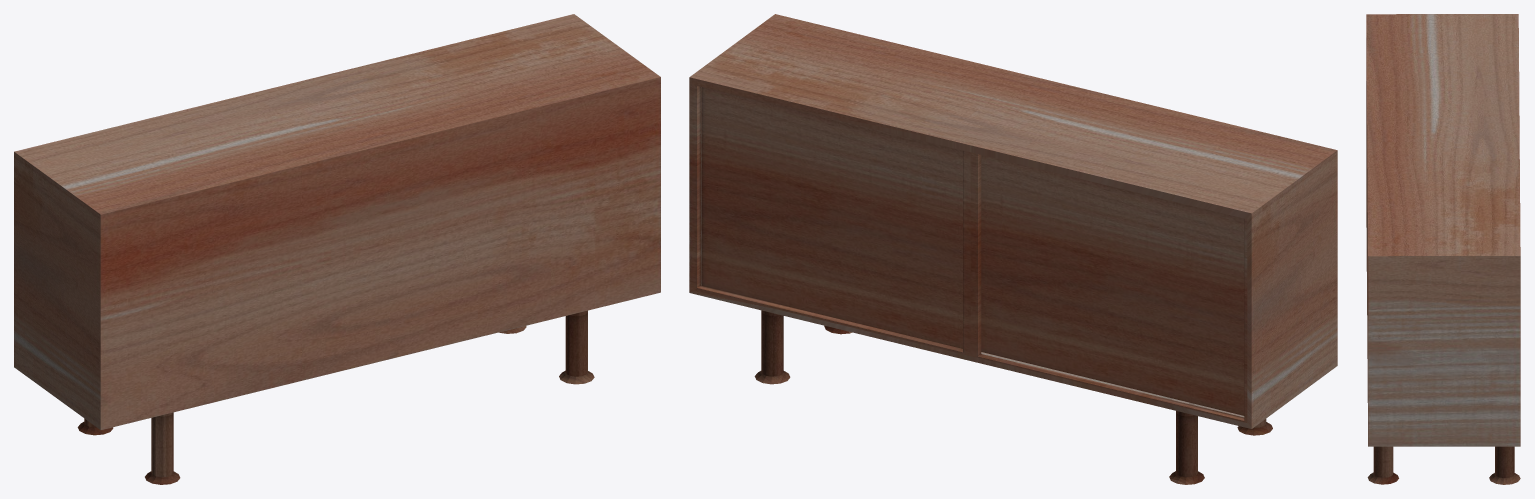
The model's file is frl_apartment_cabinet.glb.
3 views of the same model, side by side, from view 1: azimuth 30°, elevation 25°; view 2: azimuth 150°, elevation 25°; view 3: azimuth 270°, elevation 25° (orthographic). The views are drawn at different scales.
Visible parts, largest first — view 1: frl_apartment_cabinet; view 2: frl_apartment_cabinet; view 3: frl_apartment_cabinet.
Boxes of the visible parts, left/top/right/bottom form: frl_apartment_cabinet: left=14, top=14, right=660, bottom=484; frl_apartment_cabinet: left=689, top=14, right=1337, bottom=484; frl_apartment_cabinet: left=1366, top=14, right=1520, bottom=484.
Size of the model in its own units: 1.59 by 0.778 by 0.4279.
2 materials, 2 textured.
